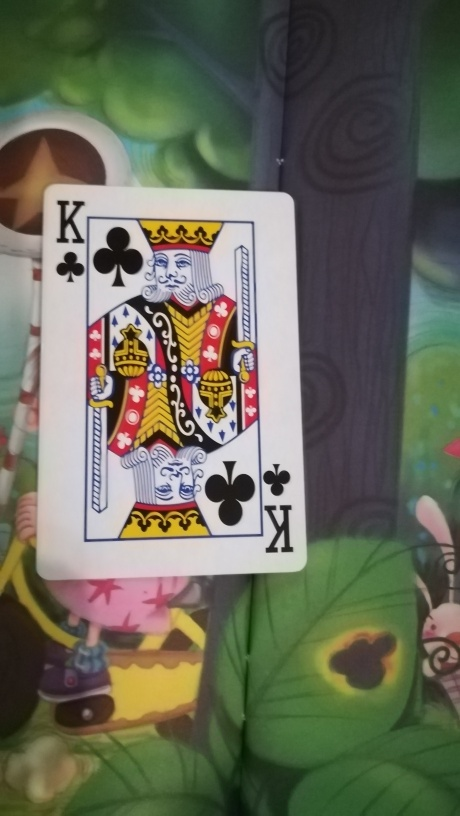mh k: (35, 181, 310, 580)
